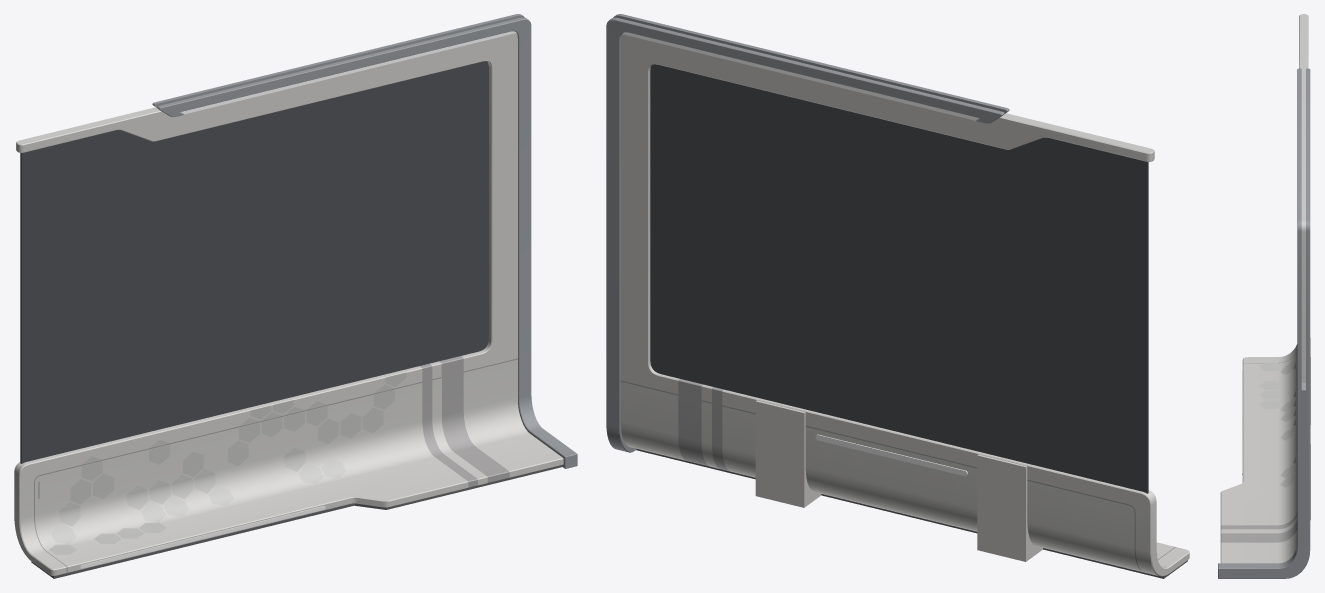
File: MICE_LeafletStand_Normal_01.fbx
3 renders of one model, left to right at view 1: azimuth 30°, elevation 25°; view 2: azimuth 150°, elevation 25°; view 3: azimuth 270°, elevation 25°, orthographic. The views are drawn at different scales.
Visible parts, largest first — view 1: MICE_LeafletStand_Normal_01; view 2: MICE_LeafletStand_Normal_01; view 3: MICE_LeafletStand_Normal_01.
Part boxes in pixels (x1,y1,x2,y2): MICE_LeafletStand_Normal_01: (14, 14, 577, 578); MICE_LeafletStand_Normal_01: (606, 14, 1189, 578); MICE_LeafletStand_Normal_01: (1218, 14, 1310, 578).
Size of the model in its own units: 3 by 0.5503 by 2.32.
Materials: 4 (4 with a texture image).
